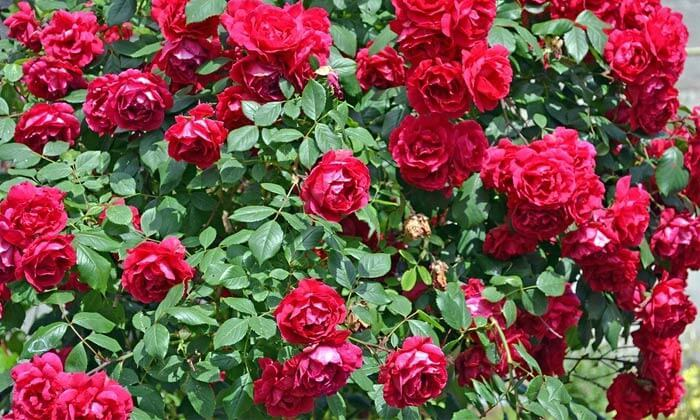Rose: (302, 152, 371, 219), (1, 181, 65, 243), (384, 339, 442, 405), (512, 147, 575, 207), (276, 279, 341, 336), (123, 241, 187, 297), (409, 62, 472, 118), (111, 71, 168, 132), (390, 117, 452, 172), (466, 46, 508, 116), (14, 102, 74, 149), (168, 112, 221, 165), (648, 280, 688, 336), (645, 9, 688, 59), (606, 27, 645, 78)
